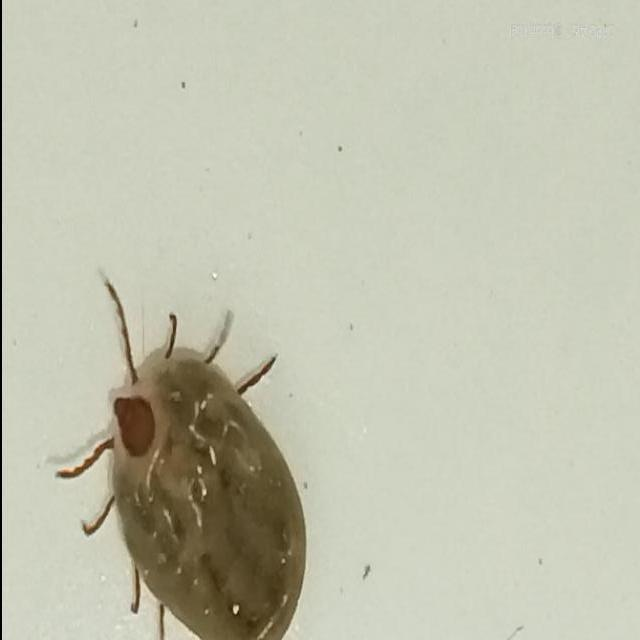Rhipicephalus Sanguineus-F-Fed: (53, 269, 306, 640)
